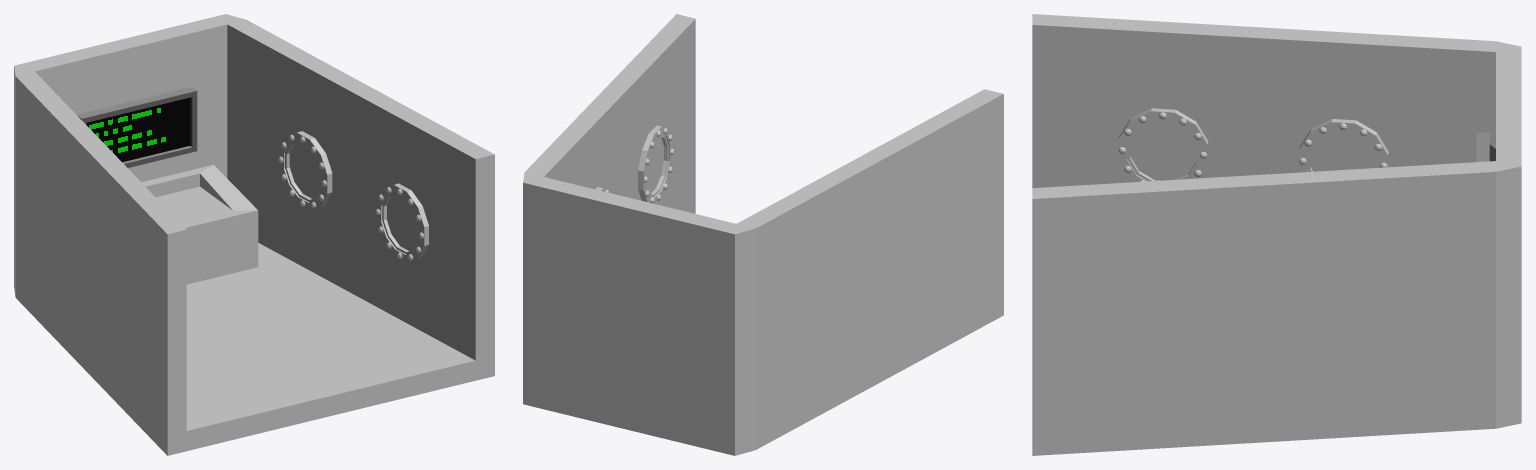
File: ControlRoomWIP.obj
The picture shows the model from 3 angles, left to right: view 1: azimuth 30°, elevation 25°; view 2: azimuth 150°, elevation 25°; view 3: azimuth 270°, elevation 25°; orthographic projection. The views are drawn at different scales.
Parts seen in each view (by area): view 1: mesh, the control table, window, screen; view 2: mesh, window; view 3: mesh, window, screen.
Part boxes in pixels (left/top/right/bottom): mesh: left=14, top=14, right=494, bottom=455; the control table: left=142, top=164, right=258, bottom=284; window: left=278, top=131, right=428, bottom=262; screen: left=77, top=87, right=197, bottom=167; mesh: left=523, top=14, right=1003, bottom=455; window: left=595, top=125, right=674, bottom=203; mesh: left=1032, top=14, right=1521, bottom=455; window: left=1118, top=108, right=1388, bottom=182; screen: left=1476, top=132, right=1495, bottom=161.
Size of the model in its own units: 2.12 by 1.37 by 2.38.
